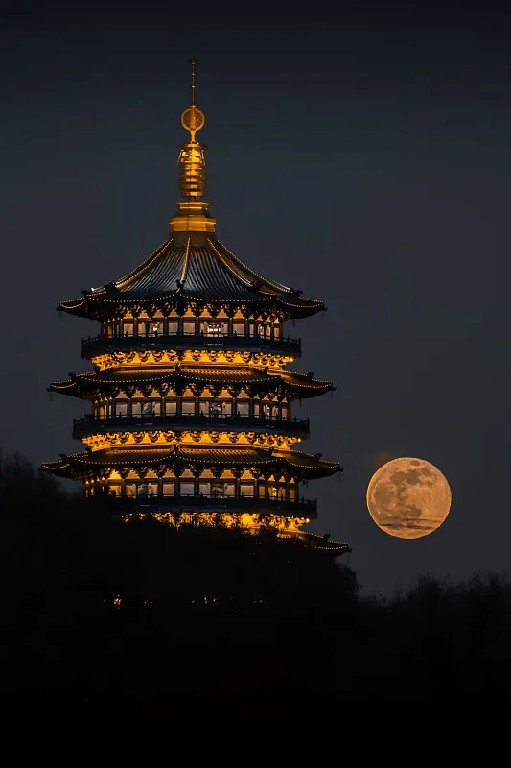Leifeng: (52, 64, 350, 561)
